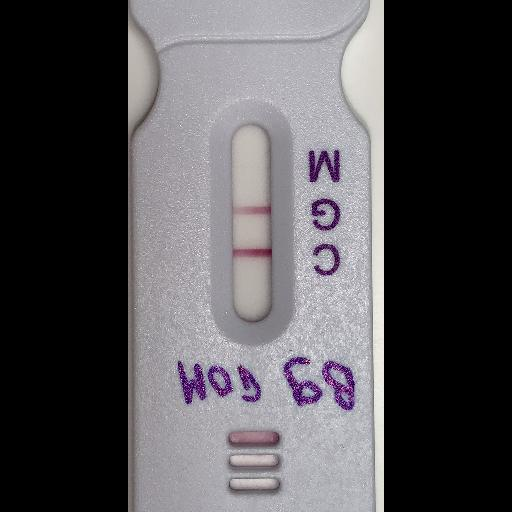Neg: (128, 0, 374, 510)
